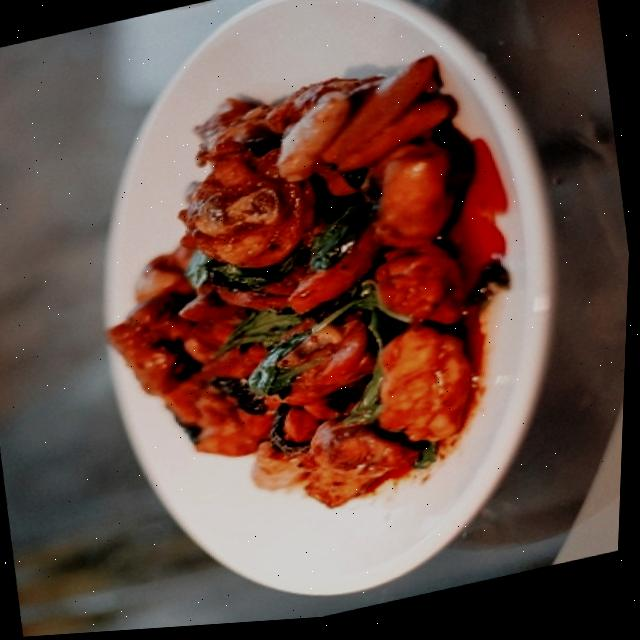鸡肉料理 含炸鸡: (77, 10, 548, 587)
